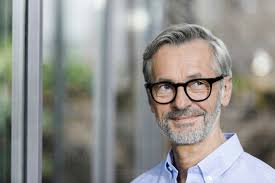Glasses: (142, 77, 228, 104)
